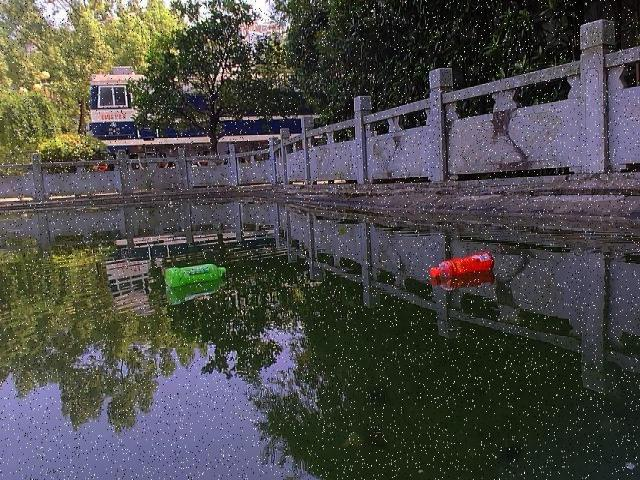Bottle: (424, 246, 499, 284), (160, 260, 234, 292)
